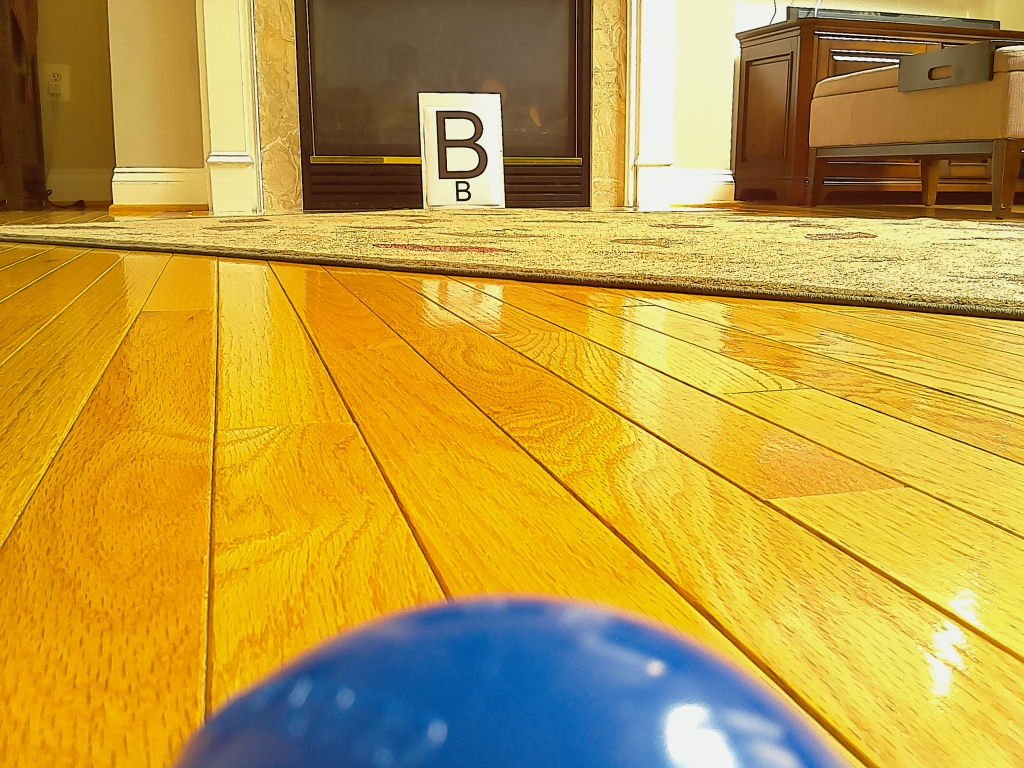letter: (437, 110, 489, 180)
